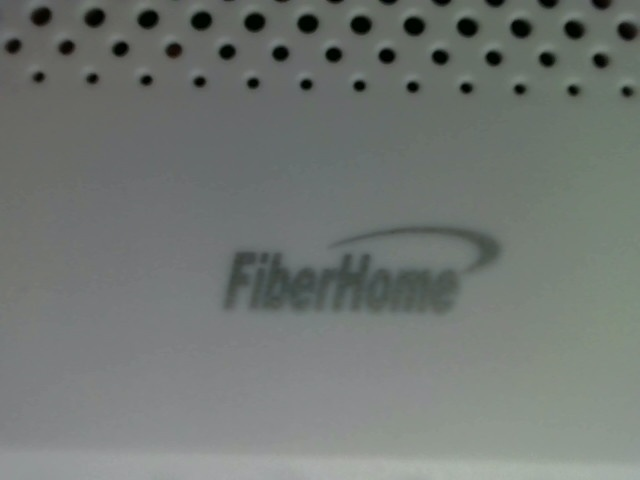AI_FiberHome: (195, 212, 507, 326)
